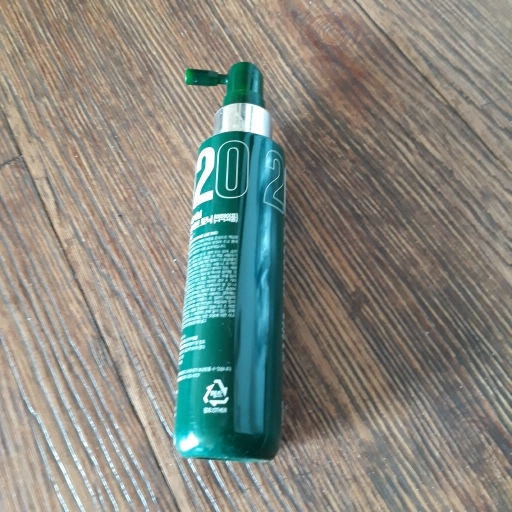Plastic_3: (176, 61, 288, 462)
